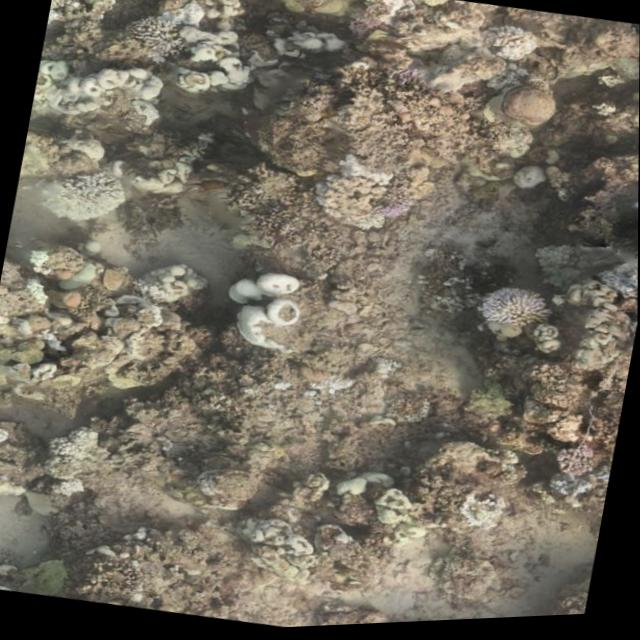Bleached Coral: (207, 257, 309, 346), (450, 273, 563, 337), (44, 160, 132, 230), (510, 231, 596, 302), (34, 421, 104, 500), (116, 9, 190, 74), (130, 251, 207, 310), (323, 145, 405, 196), (484, 26, 543, 73), (543, 475, 609, 510), (362, 346, 408, 393), (0, 420, 15, 449)
